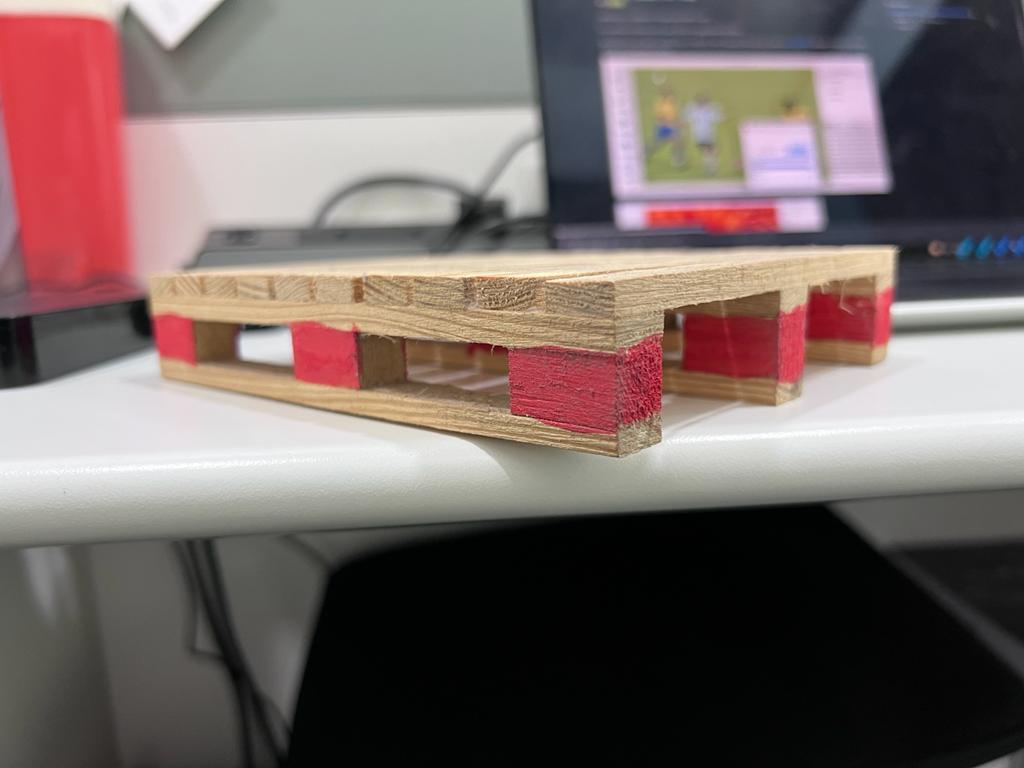pallet: (137, 261, 921, 459)
